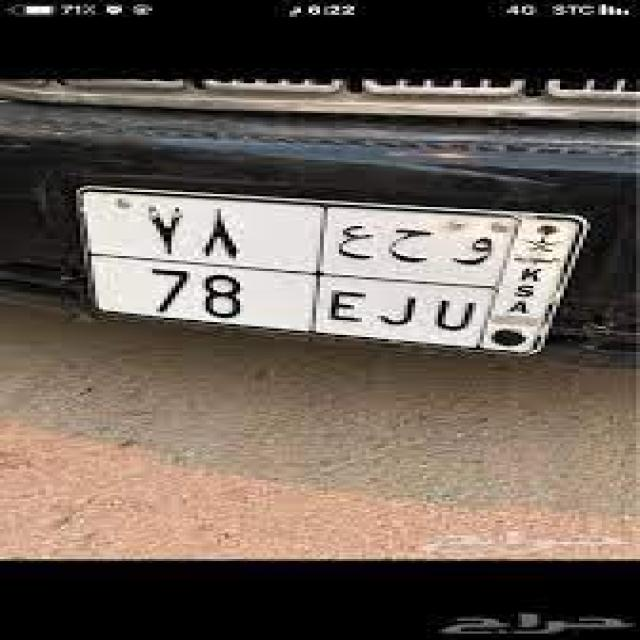license_plate: (72, 184, 594, 358)
